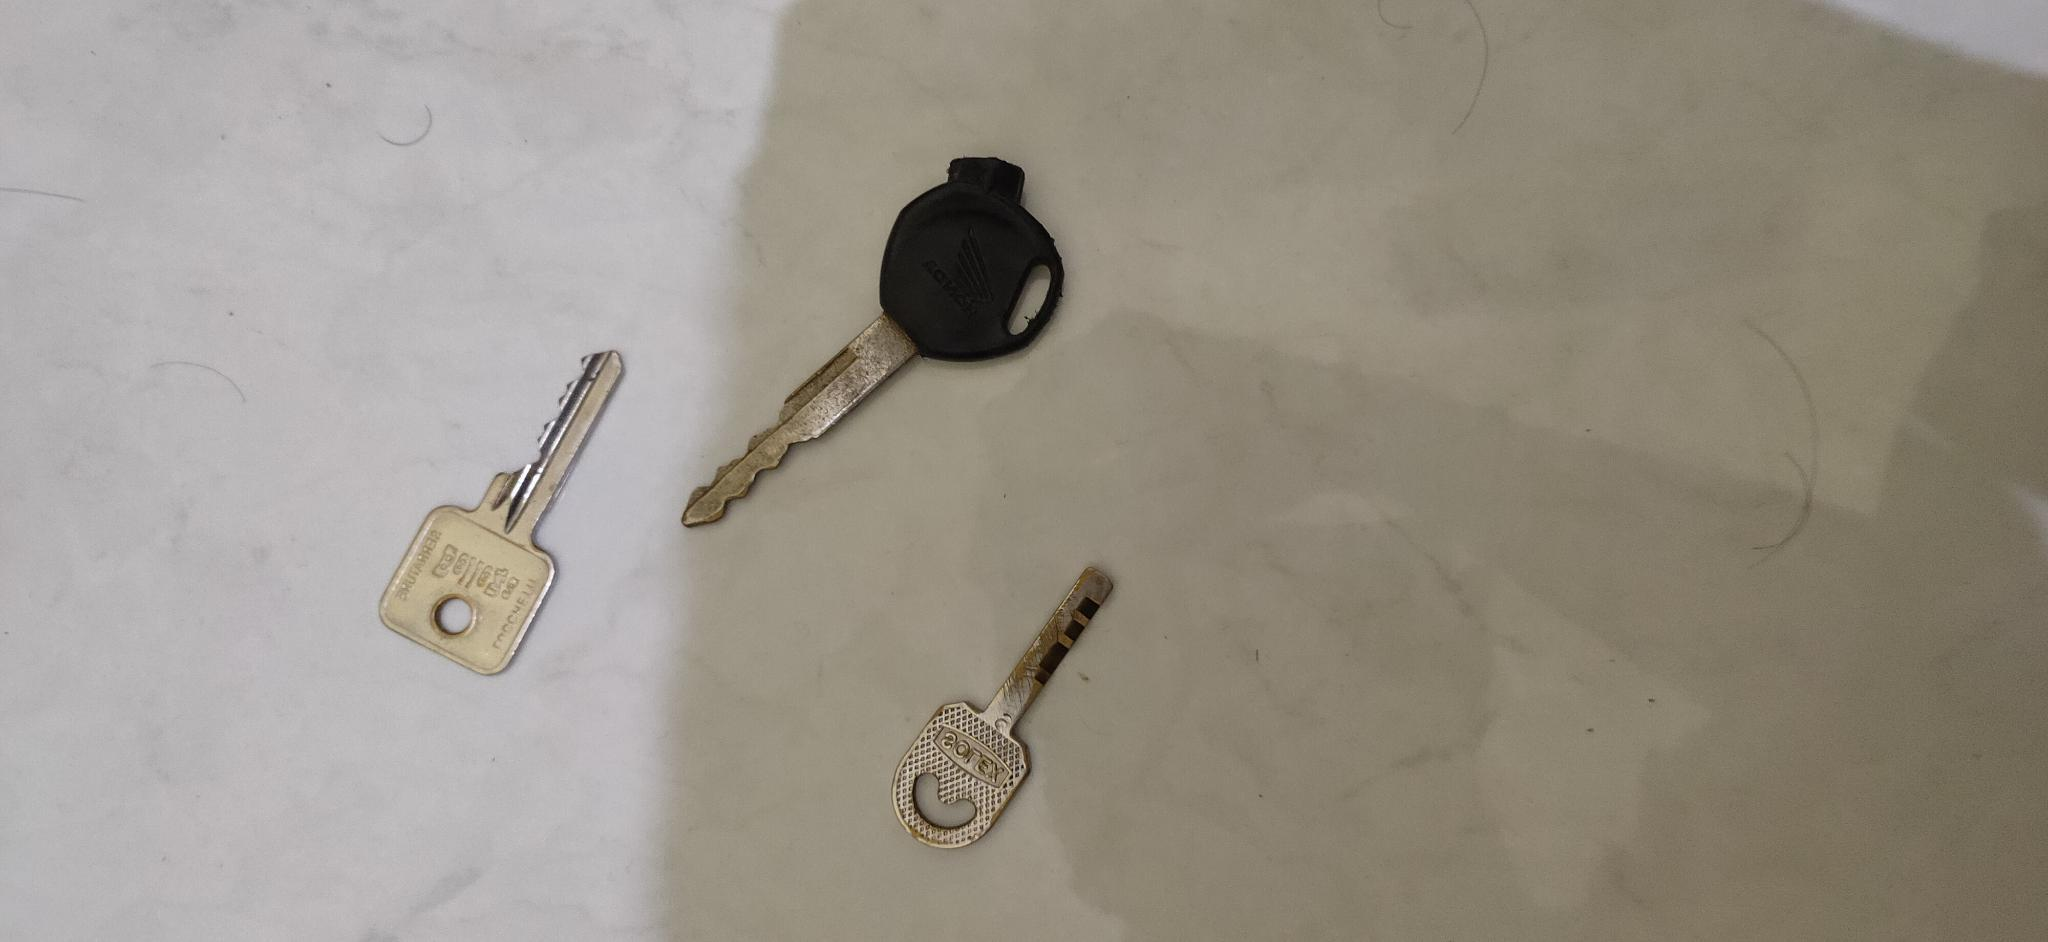keys: (675, 144, 1072, 534), (374, 345, 645, 687), (888, 564, 1119, 854)
